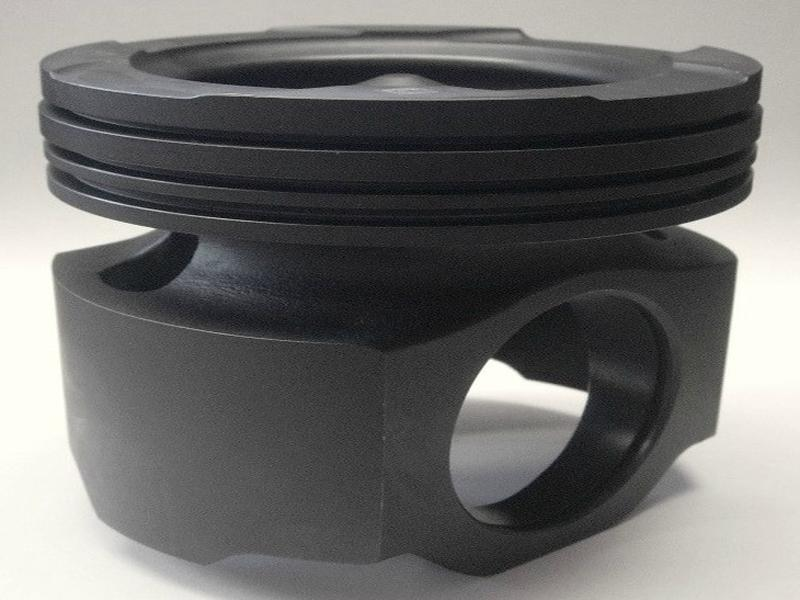piston: (36, 20, 770, 580)
